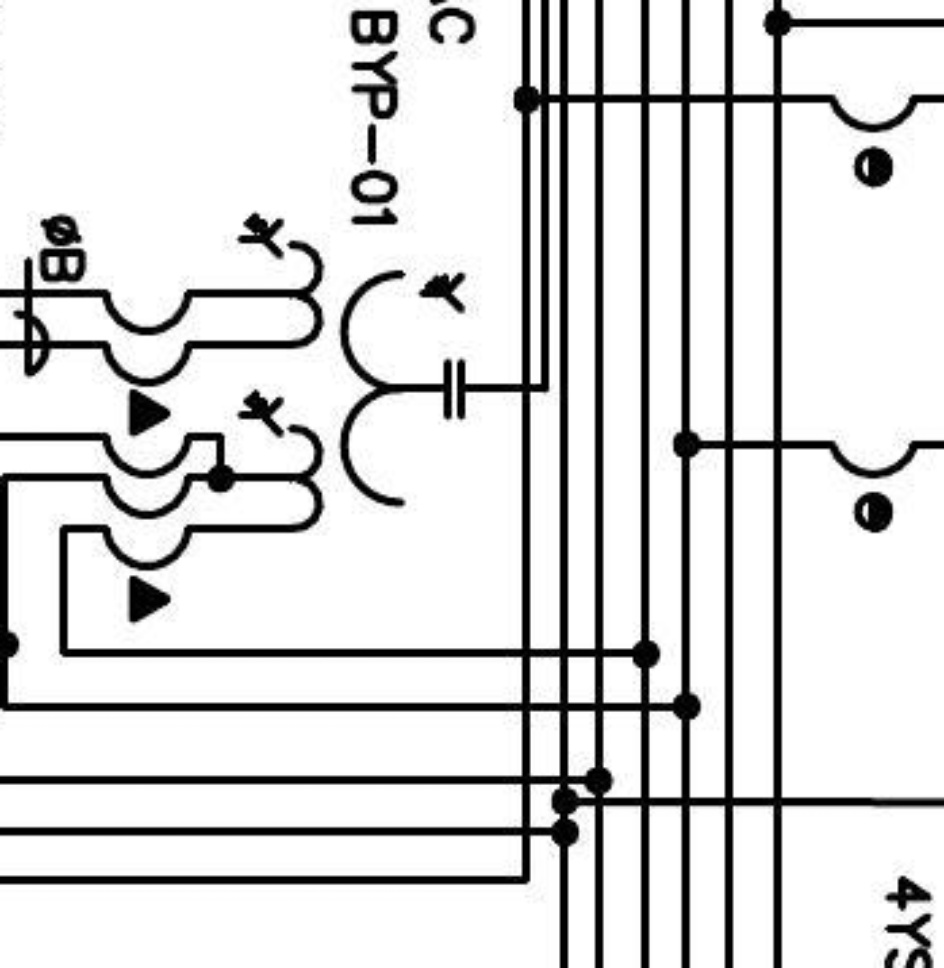115_cvt_3p: (235, 210, 467, 534)
